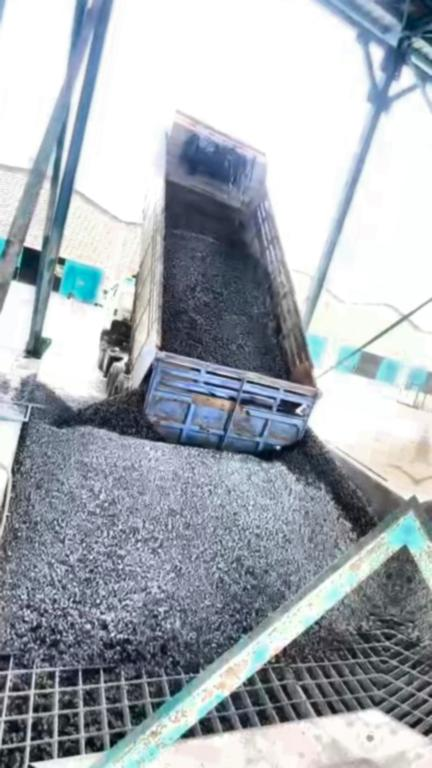gravel: (0, 372, 374, 672), (159, 183, 289, 378), (288, 555, 403, 656)
sand: (341, 428, 425, 497)
